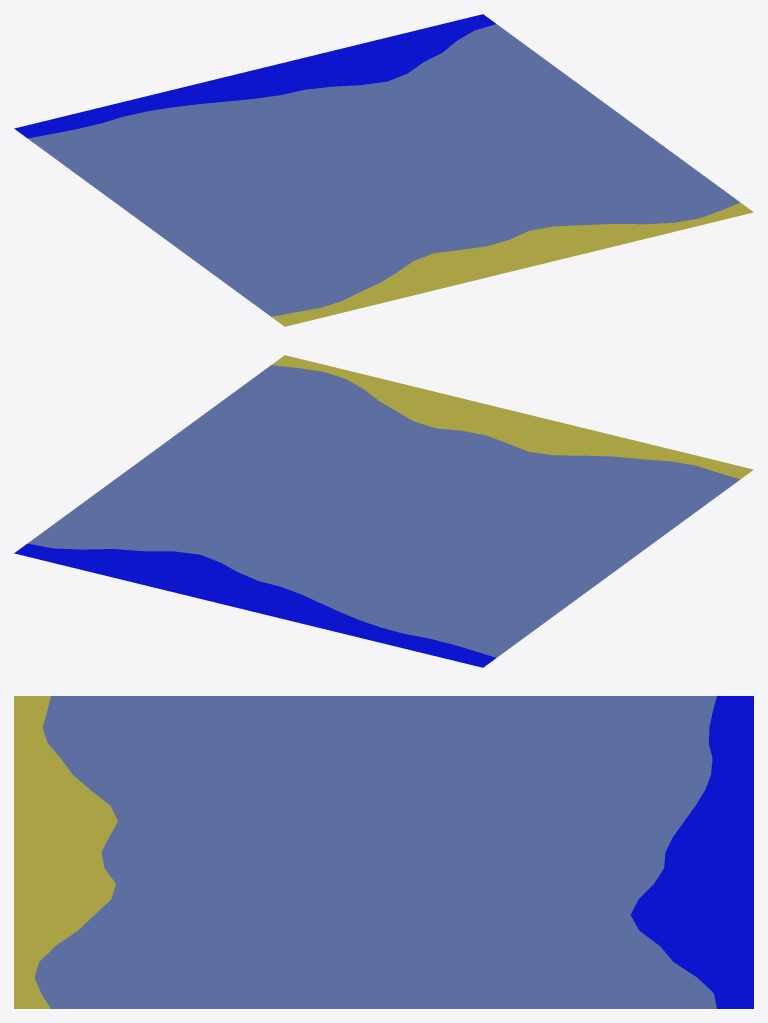
Rendered from ShoreStraight1.glb.
The picture shows the model from 3 angles, top to bottom: view 1: azimuth 30°, elevation 25°; view 2: azimuth 150°, elevation 25°; view 3: azimuth 270°, elevation 25°; orthographic projection. The views are drawn at different scales.
Parts seen in each view (by area): view 1: ShoreStraight1; view 2: ShoreStraight1; view 3: ShoreStraight1.
Part boxes in pixels (box(x1,y1,x2,y2)): ShoreStraight1: box(14, 14, 753, 326); ShoreStraight1: box(14, 355, 753, 667); ShoreStraight1: box(14, 696, 753, 1008).
Bounding box in the file's own units: 1 × 0 × 1.
